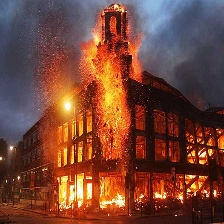fire: (45, 3, 224, 215)
smoke: (162, 1, 224, 100), (8, 1, 71, 86)
